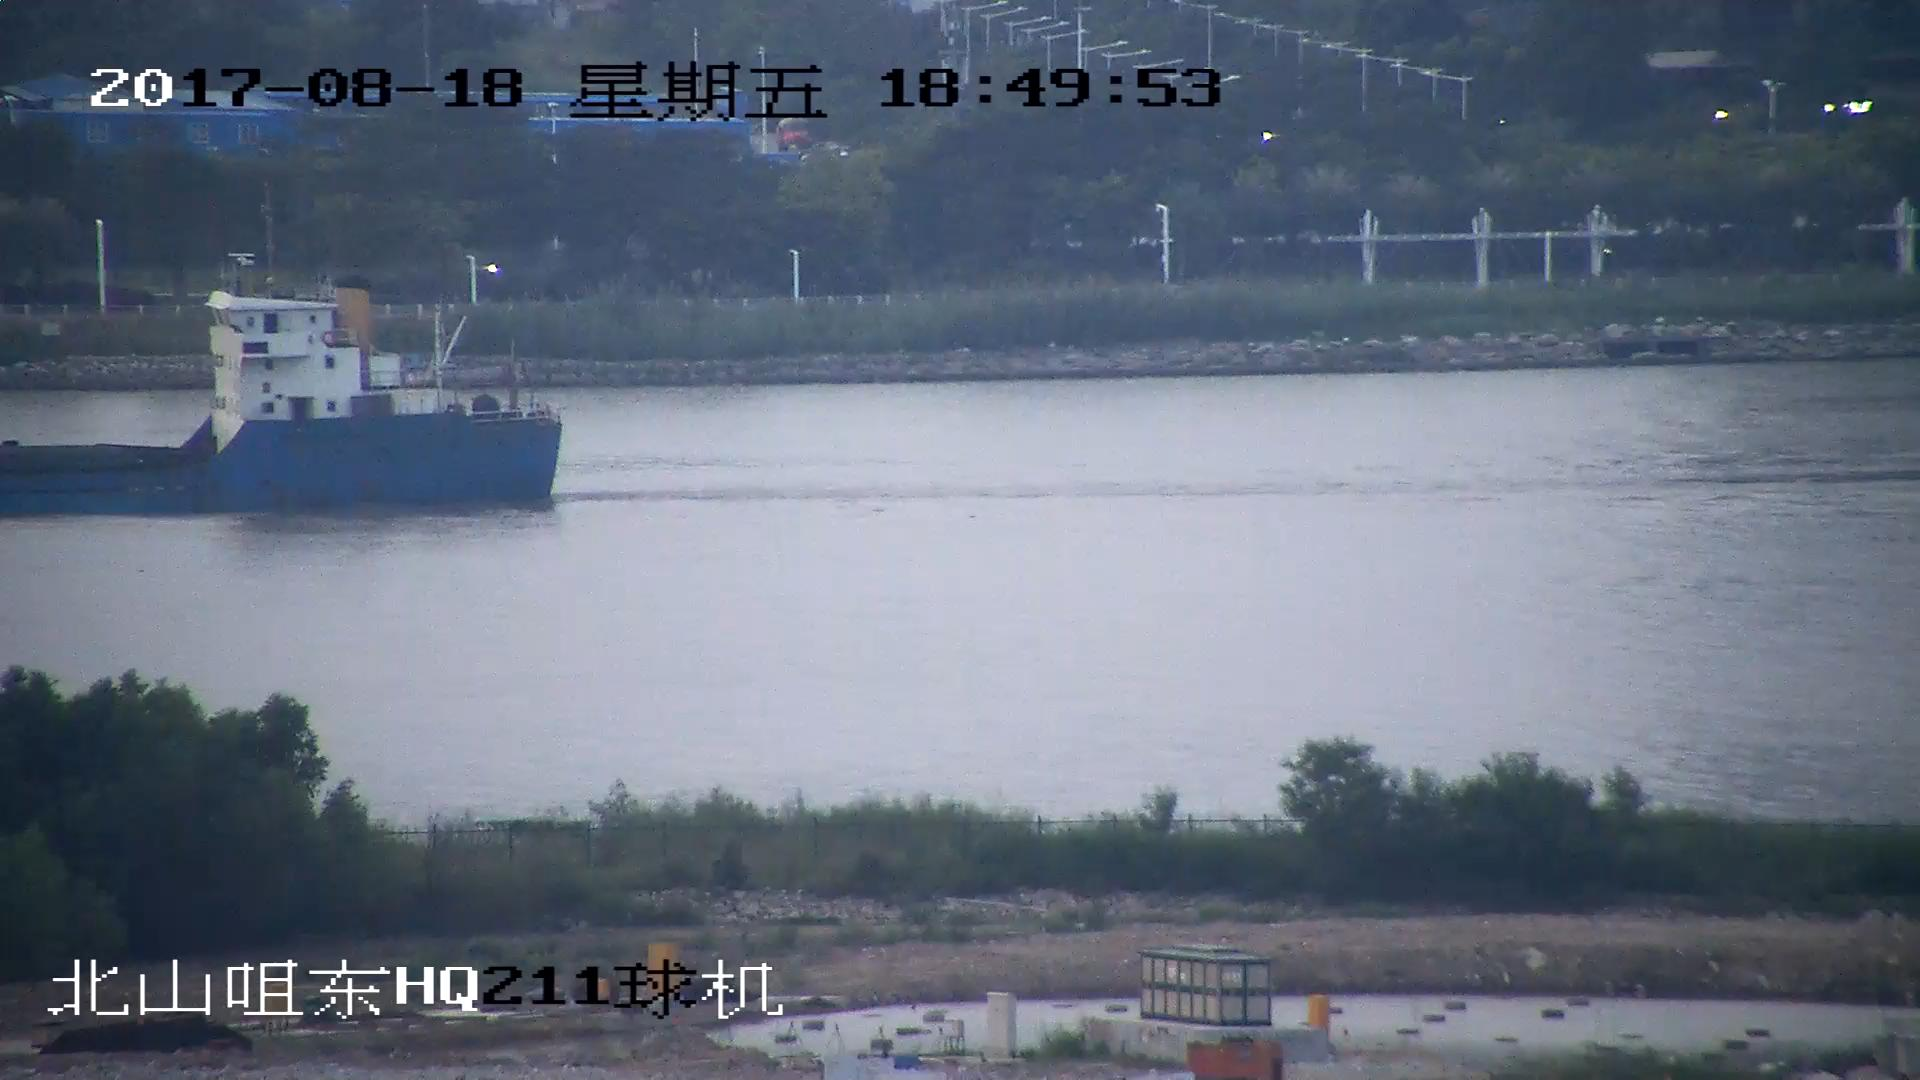general cargo ship: (1, 250, 568, 512)
